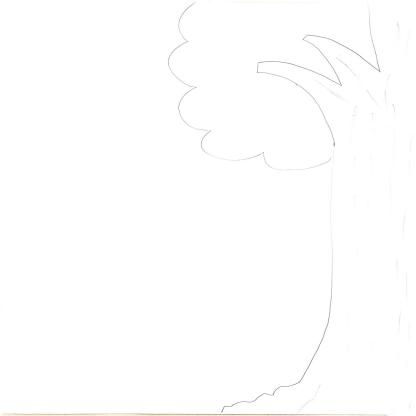branch_cut: (254, 11, 416, 104)
crown_cloud: (168, 1, 416, 171)
trunk_straight: (318, 179, 416, 334)
